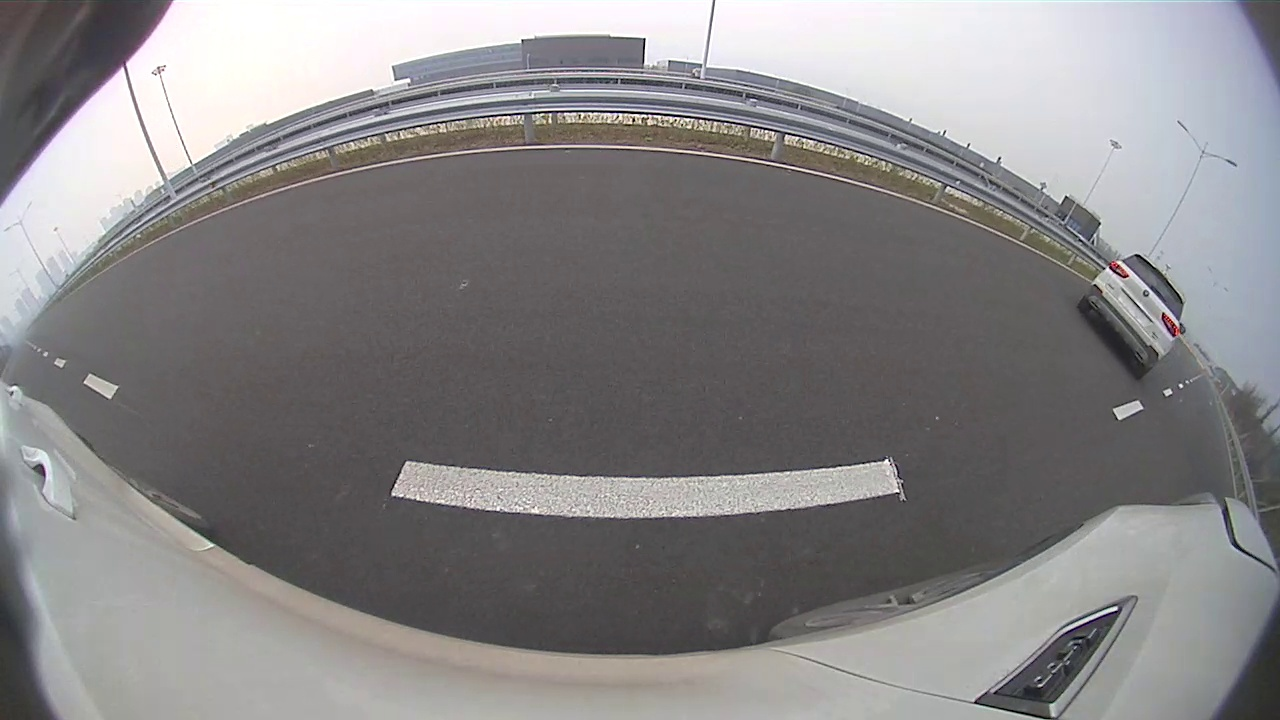car: (1, 236, 244, 498)
front: (186, 284, 239, 355)
